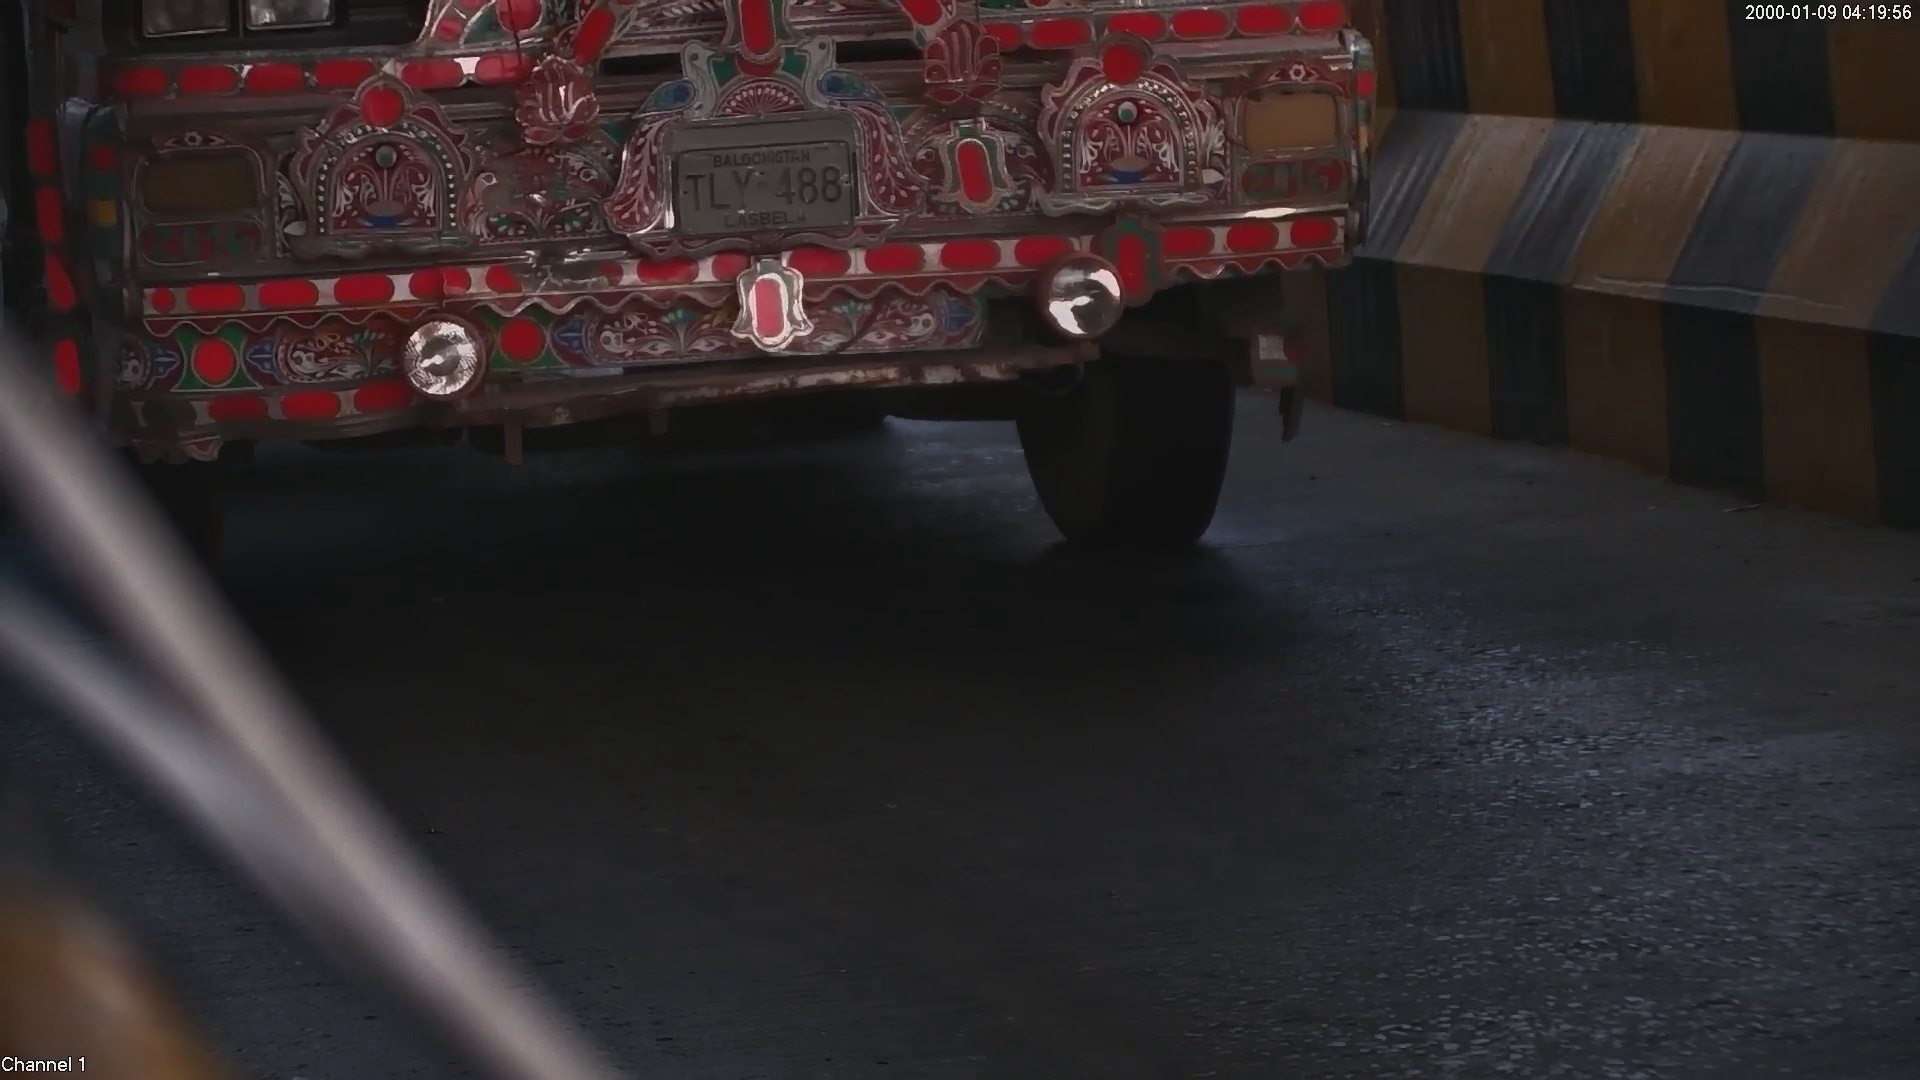Number_Plate: (641, 114, 891, 249)
Undefined: (110, 127, 467, 275), (1056, 51, 1371, 216)
